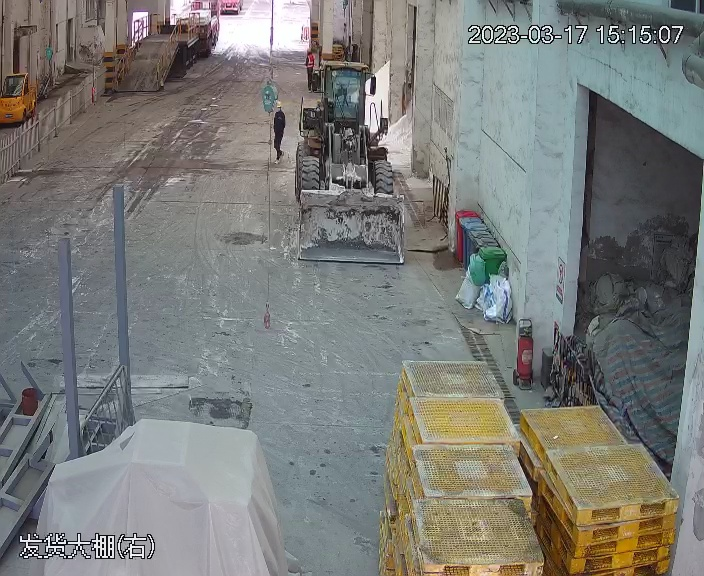head: (272, 100, 286, 120)
helmet: (274, 101, 284, 109)
people: (269, 98, 288, 162)
